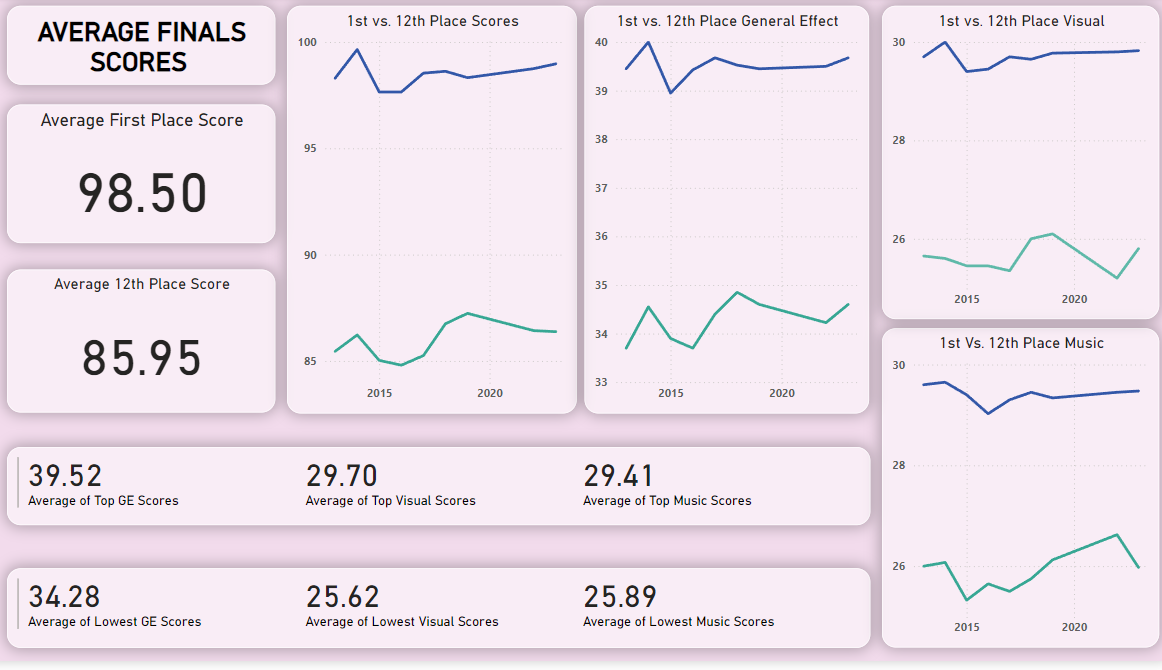

The page's visual inventory and layout, read from the dashboard file:
{"tool":"powerbi","page":{"name":"Finals Averages","canvas":[1280,720],"ordinal":1},"visuals":[{"type":"textbox","box":[21.1,8.9,291.1,85.6],"z":0},{"type":"card","title":"Average 12th Place Score","fields":{"Values":["Avg(AvgMinTot.average_min_total)"]},"box":[21.1,295.6,291.1,155.6],"z":1000},{"type":"card","title":"Average First Place Score","fields":{"Values":["Sum(AvgFirstTot.average_max_total)"]},"box":[21.1,116.7,291.1,150],"z":2000},{"type":"lineChart","title":"1st vs. 12th Place Scores","fields":{"Category":["FirstPlaceTotScores.comp_year"],"Y":["Max(FirstPlaceTotScores.max_total)","Min(12PlaceTotSCores.min_total)"]},"box":[325.6,8.9,314.4,442.2],"z":3000},{"type":"multiRowCard","fields":{"Values":["Avg(FirstPlaceCapScores.geneff)","Avg(FirstPlaceCapScores.max)","Avg(FirstPlaceCapScores.max-2)"]},"box":[21.1,488.9,936.7,84.4],"z":4000},{"type":"multiRowCard","fields":{"Values":["Avg(12PlaceCapScores.geneff)","Avg(12PlaceCapScores.vis)","Avg(12PlaceCapScores.12th Place Music)"]},"box":[21.1,620,936.7,86.7],"z":5000},{"type":"lineChart","title":"1st Vs. 12th Place Music","fields":{"Category":["FirstPlaceTotScores.comp_year"],"Y":["Sum(FirstPlaceCapScores.Top  Music)","Sum(12PlaceCapScores.12th Place Music)"]},"box":[971.1,360,301.1,346.7],"z":6000},{"type":"lineChart","title":"1st vs. 12th Place Visual","fields":{"Category":["FirstPlaceTotScores.comp_year"],"Y":["Sum(12PlaceCapScores.Lowest Visual)","Sum(FirstPlaceCapScores.Top Visual)"]},"box":[971.1,8.9,301.1,340],"z":7000},{"type":"lineChart","title":"1st vs. 12th Place General Effect","fields":{"Category":["FirstPlaceTotScores.comp_year"],"Y":["Sum(FirstPlaceCapScores.Top GE)","Sum(12PlaceCapScores.Lowest GE)"]},"box":[648.9,8.9,308.9,442.2],"z":8000}]}

Visuals, with their boxes in screenshot pixels (x1, y1, x2, y2), scaled from the page's 1280x720 canvas onto the 1162x670 screenshot:
textbox: detection(19, 8, 283, 88)
"Average 12th Place Score" card: detection(19, 275, 283, 420)
"Average First Place Score" card: detection(19, 109, 283, 248)
"1st vs. 12th Place Scores" lineChart: detection(296, 8, 581, 420)
multiRowCard - Avg(FirstPlaceCapScores.geneff) x Avg(FirstPlaceCapScores.max): detection(19, 455, 870, 533)
multiRowCard - Avg(12PlaceCapScores.geneff) x Avg(12PlaceCapScores.vis): detection(19, 577, 870, 658)
"1st Vs. 12th Place Music" lineChart: detection(882, 335, 1155, 658)
"1st vs. 12th Place Visual" lineChart: detection(882, 8, 1155, 325)
"1st vs. 12th Place General Effect" lineChart: detection(589, 8, 870, 420)
